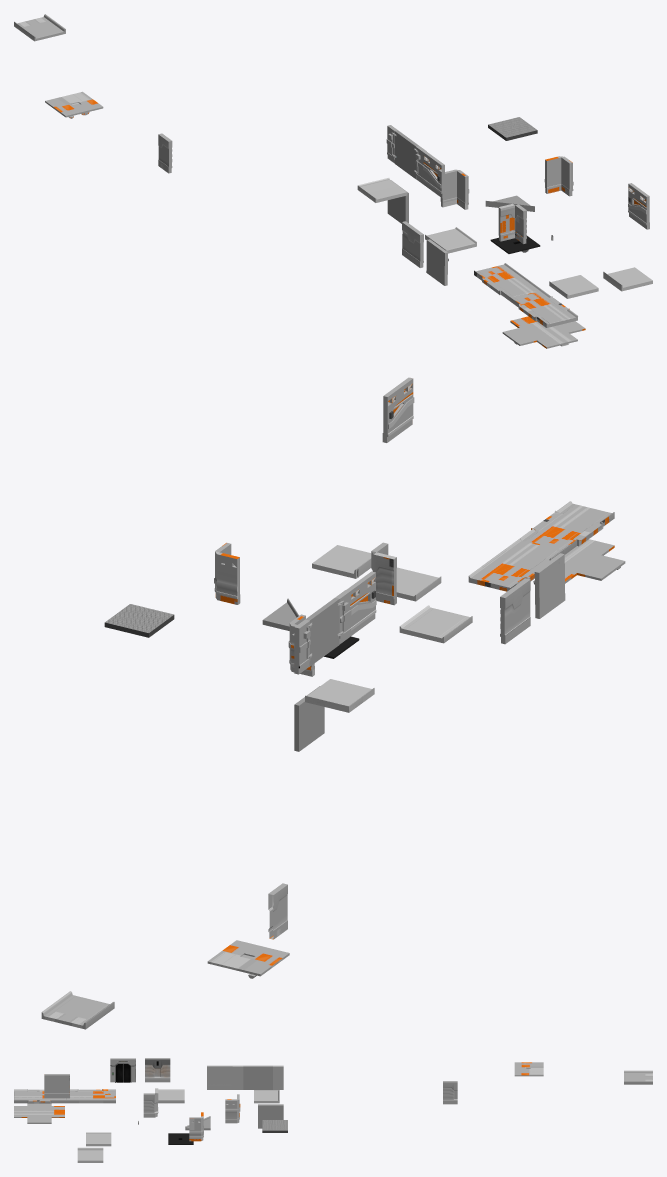
The model's file is ShieldGen2Textureless.fbx.
3 renders of one model, top to bottom at view 1: azimuth 30°, elevation 25°; view 2: azimuth 150°, elevation 25°; view 3: azimuth 270°, elevation 25°, orthographic. The views are drawn at different scales.
Visible parts, largest first — view 1: polySurface959, polySurface71, polySurface529, polySurface77, polySurface630, polySurface80, polySurface79, polySurface103, polySurface95, pCube22, polySurface979, polySurface105 (+10 smaller); view 2: polySurface71, polySurface529, polySurface80, polySurface959, polySurface105, polySurface103, polySurface95, pCube41, polySurface975, pCube22, polySurface979, pCube36 (+8 smaller); view 3: polySurface959, polySurface529, polySurface55, polySurface975, pCube22, pCube41, polySurface95, pCube19, polySurface71, pCube40, polySurface80, polySurface103 (+10 smaller).
Boxes of the visible parts, x1=… form: polySurface959: x1=502, y1=316, x2=585, y2=348; polySurface71: x1=510, y1=289, x2=577, y2=327; polySurface529: x1=474, y1=263, x2=541, y2=301; polySurface77: x1=498, y1=203, x2=526, y2=243; polySurface630: x1=544, y1=156, x2=573, y2=196; polySurface80: x1=45, y1=91, x2=103, y2=118; polySurface79: x1=440, y1=169, x2=469, y2=209; polySurface103: x1=14, y1=14, x2=65, y2=41; polySurface95: x1=402, y1=221, x2=423, y2=267; pCube22: x1=426, y1=239, x2=448, y2=285; polySurface979: x1=357, y1=178, x2=407, y2=202; polySurface105: x1=425, y1=227, x2=476, y2=253; polySurface71: x1=520, y1=501, x2=614, y2=554; polySurface529: x1=468, y1=538, x2=563, y2=591; polySurface80: x1=207, y1=940, x2=289, y2=978; polySurface959: x1=564, y1=539, x2=625, y2=583; polySurface105: x1=399, y1=605, x2=472, y2=643; polySurface103: x1=41, y1=991, x2=114, y2=1029; polySurface95: x1=500, y1=578, x2=530, y2=644; pCube41: x1=294, y1=608, x2=324, y2=674; polySurface975: x1=382, y1=377, x2=414, y2=442; pCube22: x1=533, y1=553, x2=565, y2=618; polySurface979: x1=305, y1=679, x2=374, y2=712; pCube36: x1=104, y1=604, x2=174, y2=637; polySurface959: x1=14, y1=1103, x2=64, y2=1123; polySurface529: x1=65, y1=1089, x2=115, y2=1103; polySurface55: x1=207, y1=1065, x2=232, y2=1089; polySurface975: x1=44, y1=1074, x2=69, y2=1098; pCube22: x1=110, y1=1058, x2=135, y2=1082; pCube41: x1=258, y1=1065, x2=283, y2=1089; polySurface95: x1=145, y1=1058, x2=170, y2=1082; pCube19: x1=232, y1=1065, x2=257, y2=1089; polySurface71: x1=14, y1=1089, x2=64, y2=1103; pCube40: x1=258, y1=1104, x2=283, y2=1128; polySurface80: x1=514, y1=1062, x2=543, y2=1076; polySurface103: x1=624, y1=1070, x2=652, y2=1084.
Bounding box in the file's own units: 9316 × 4154 × 25054.
